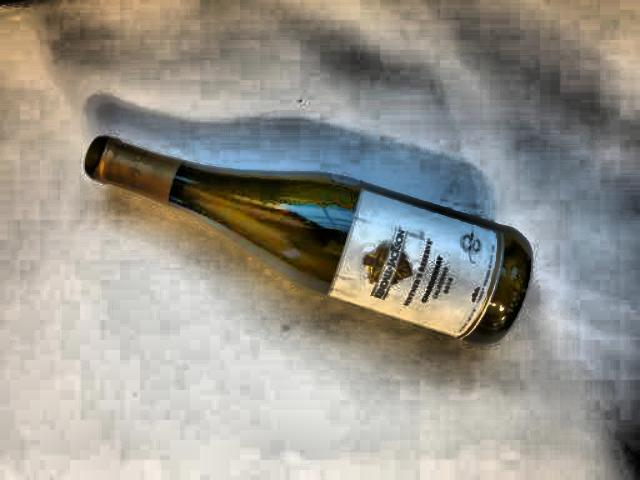Bottles: (75, 127, 537, 364)
